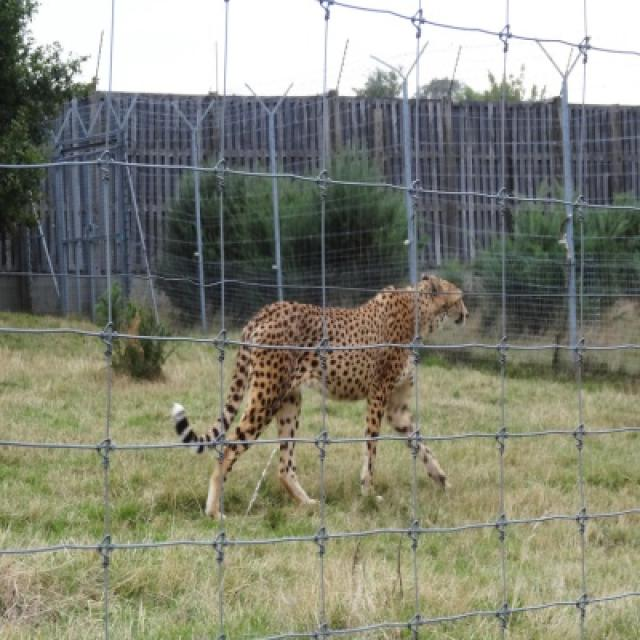Cheetah: (179, 269, 468, 528)
